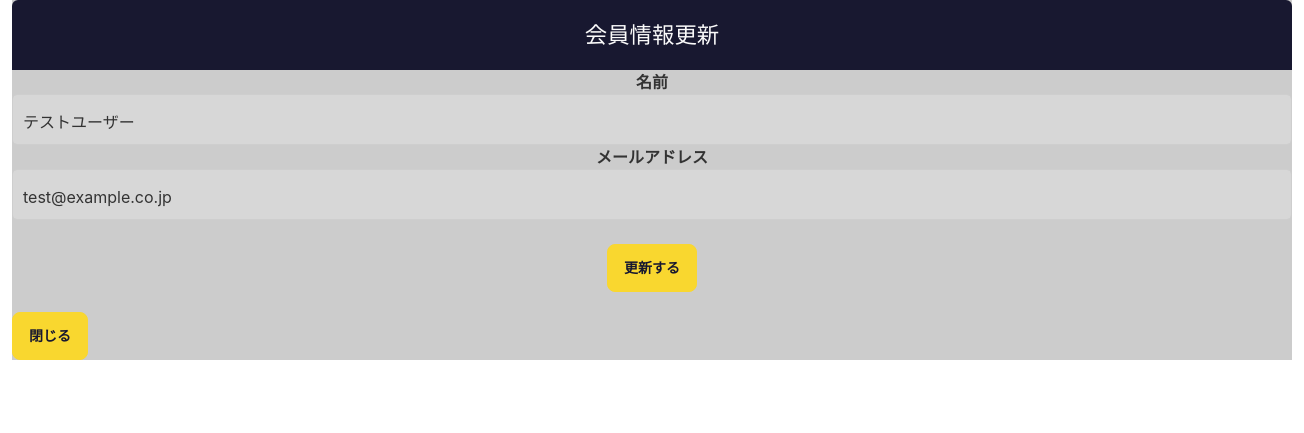
Test case: Edit name › 名前が空の場合、エラーメッセージを表示
This screenshot has width=1304, height=433.
Clear the 1st field with placeholder "Type name here": [652, 119] box [12, 94, 1292, 145]
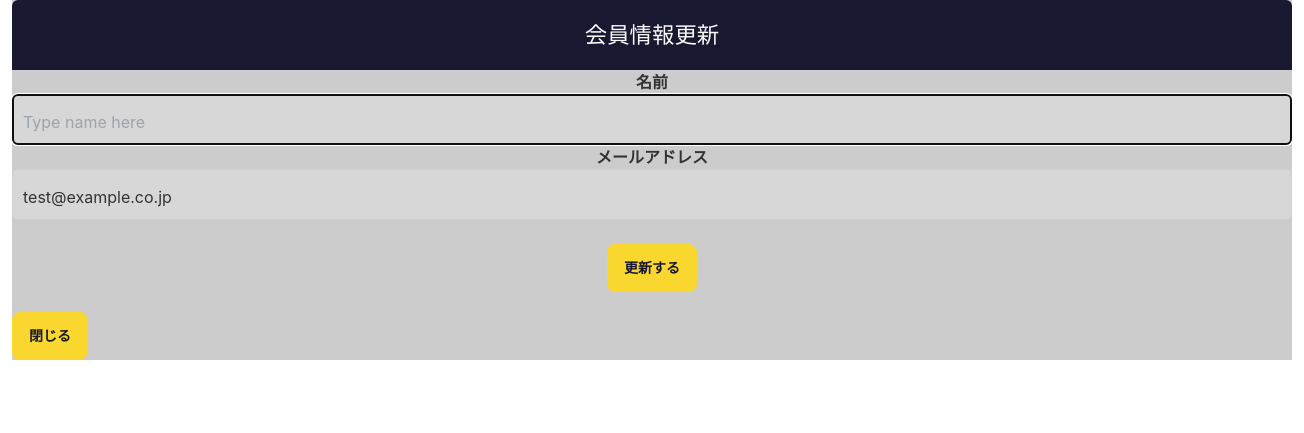
Click the button "更新する": [652, 268] box [607, 244, 697, 292]
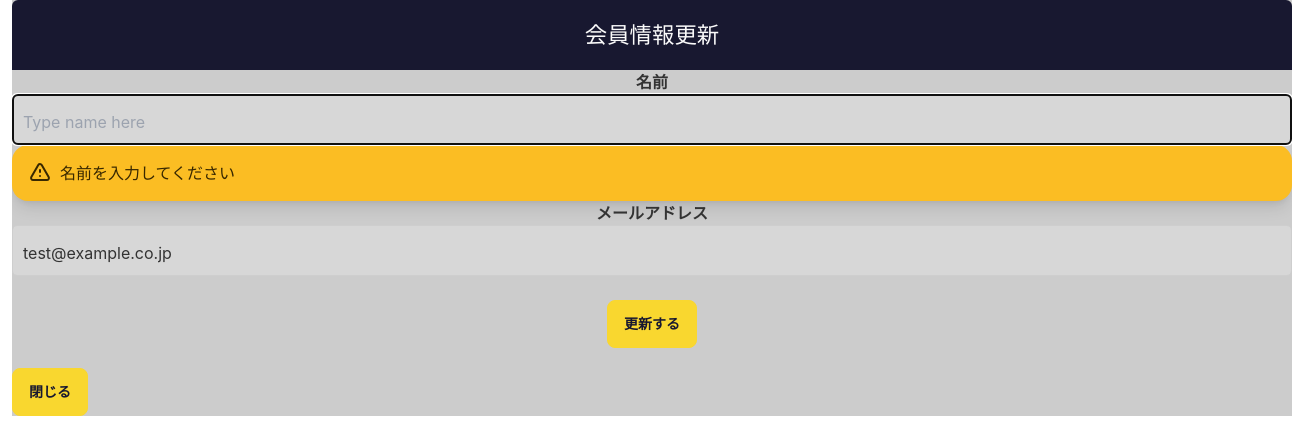
Result: the text "名前を入力してください" is shown at [60, 161, 235, 185]
